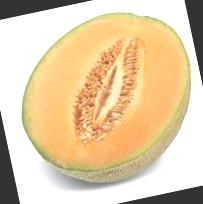Melon Ripe: (3, 0, 203, 197)
